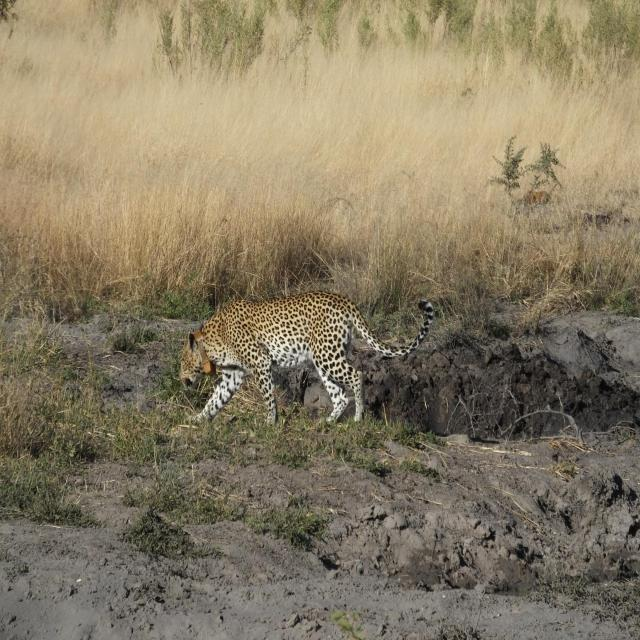Leopard: (177, 285, 438, 439)
